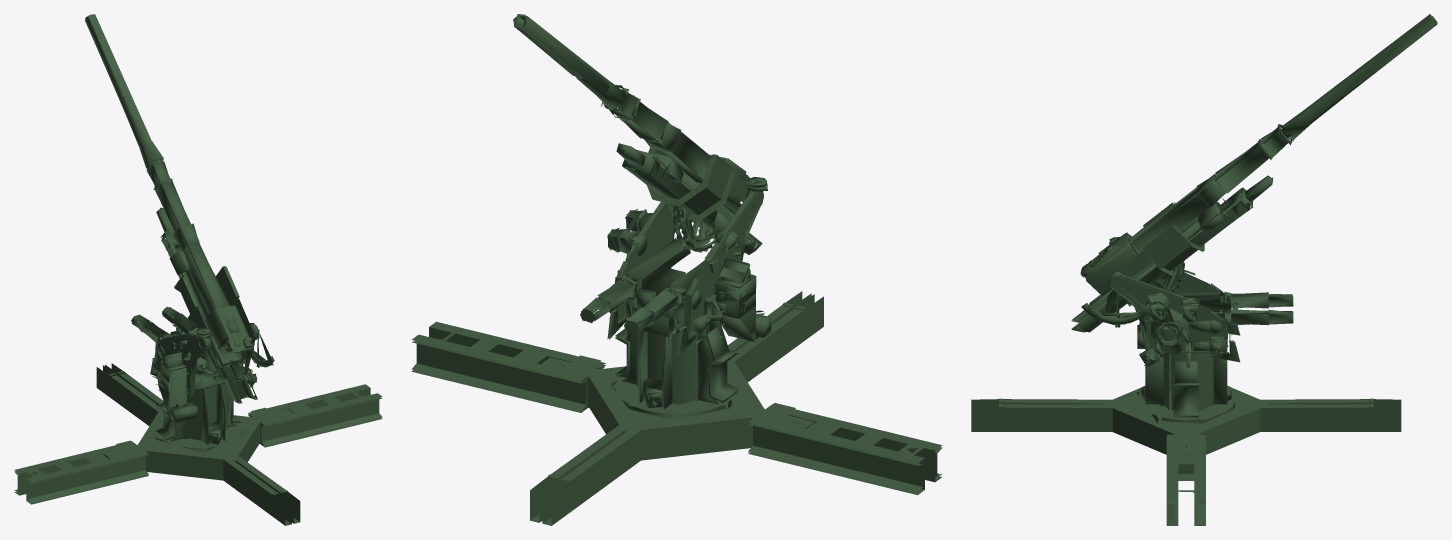
The picture shows the model from 3 angles, left to right: view 1: azimuth 30°, elevation 25°; view 2: azimuth 150°, elevation 25°; view 3: azimuth 270°, elevation 25°; orthographic projection. The views are drawn at different scales.
Visible parts, largest first — view 1: Object_14; view 2: Object_14; view 3: Object_14.
Part boxes in pixels (box(x1,y1,x2,y2)): Object_14: box(14, 14, 382, 525); Object_14: box(411, 14, 942, 525); Object_14: box(971, 14, 1437, 525).
Bounding box in the file's own units: 6.5 × 6.41 × 6.56.
